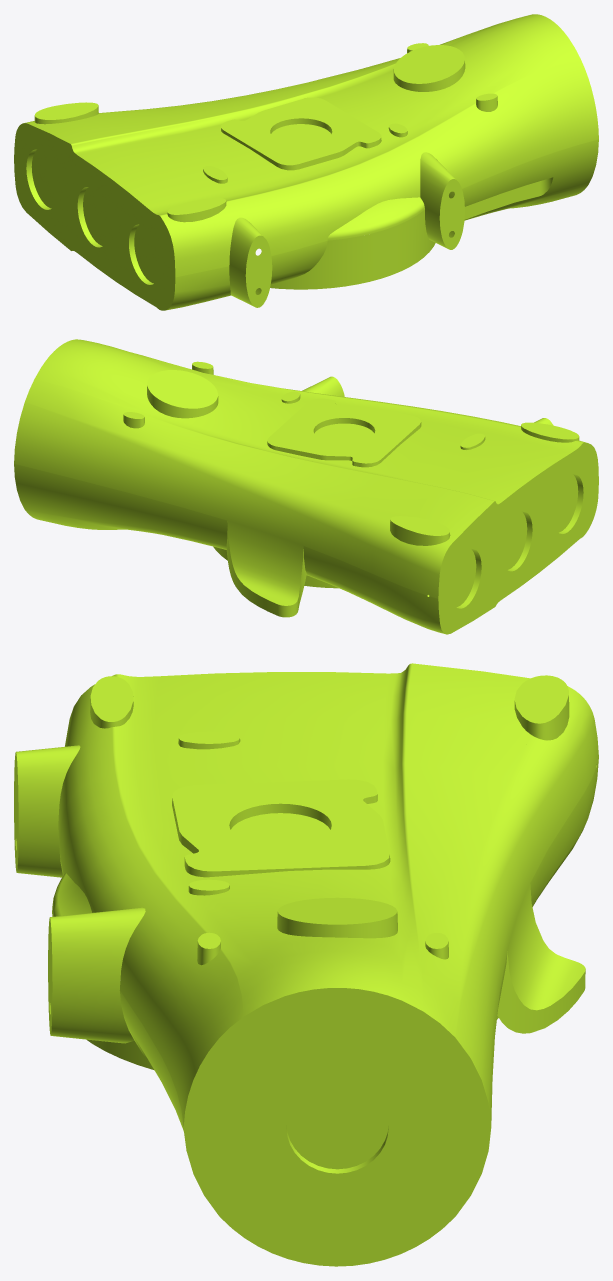
Rendered from Pfen3DE45D4A9opp_138_Pfen3DE45D4A9opp_Mesh_0.obj.
The picture shows the model from 3 angles, top to bottom: view 1: azimuth 30°, elevation 25°; view 2: azimuth 150°, elevation 25°; view 3: azimuth 270°, elevation 25°; orthographic projection. The views are drawn at different scales.
Parts seen in each view (by area): view 1: Mesh_Diffuse_9; view 2: Mesh_Diffuse_9; view 3: Mesh_Diffuse_9.
Part boxes in pixels (x1,y1,x2,y2): Mesh_Diffuse_9: (14, 14, 598, 310); Mesh_Diffuse_9: (14, 339, 598, 634); Mesh_Diffuse_9: (14, 663, 598, 1266).
Bounding box in the file's own units: 0.854 × 0.3002 × 0.5705.
